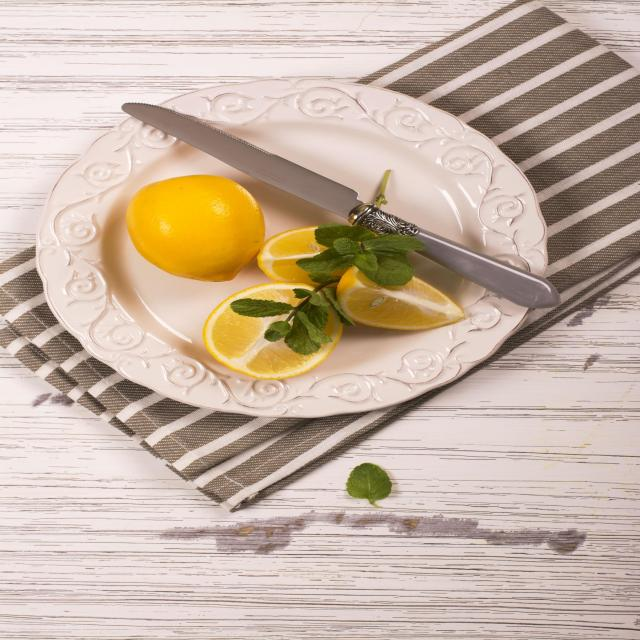lemon: (124, 173, 268, 283)
